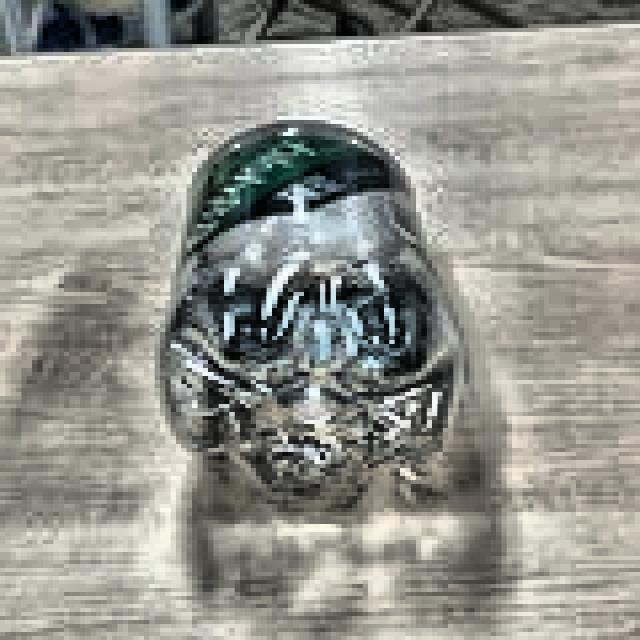plastic: (152, 112, 477, 544)
